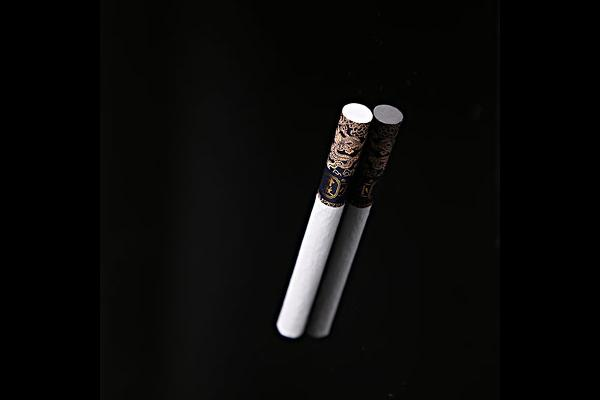Cigarette: (278, 99, 370, 339)
